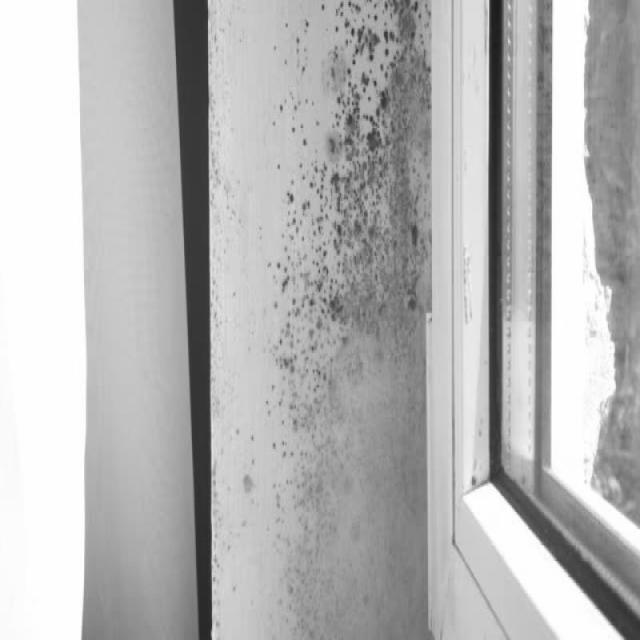stain marks: (242, 0, 440, 640)
